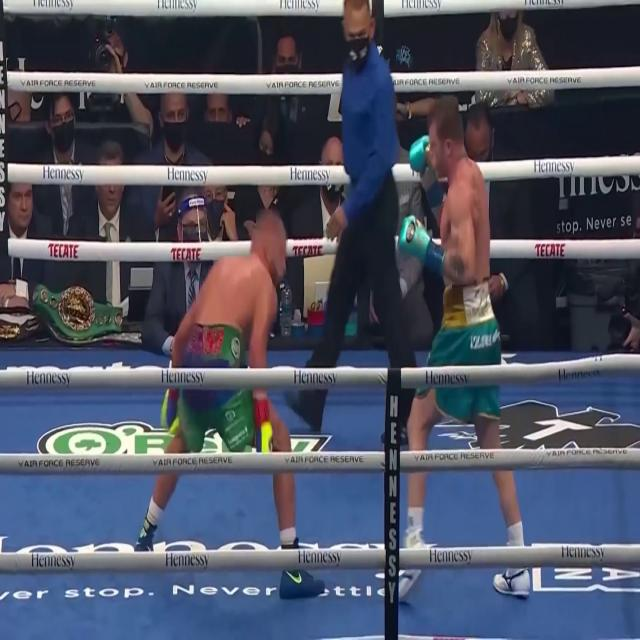boxer_1: (171, 212, 286, 367)
boxer_2: (428, 94, 490, 286)
gloves_1: (255, 398, 273, 452), (160, 389, 179, 435)
gloves_2: (398, 215, 445, 275), (410, 134, 444, 209)
